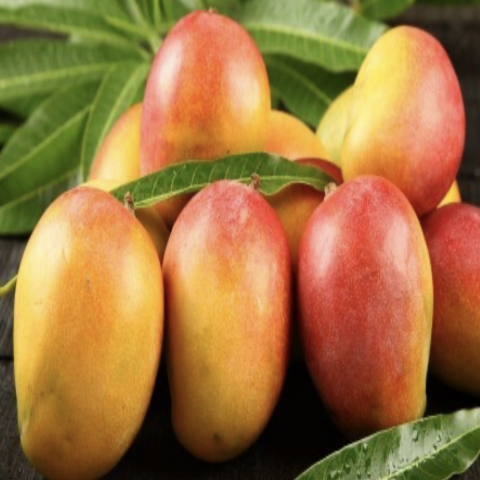mango: (8, 162, 172, 478), (288, 146, 445, 464), (157, 185, 306, 466), (129, 0, 286, 222)
